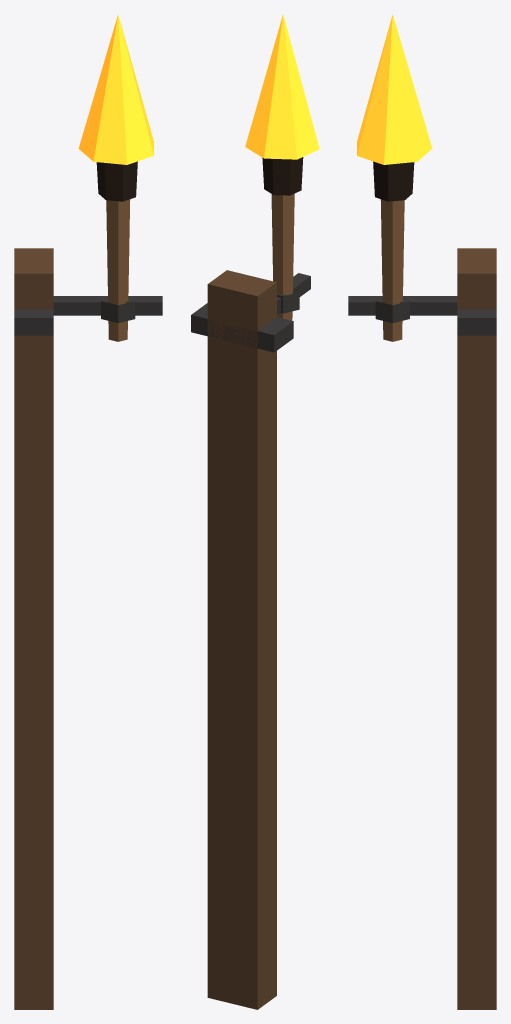
The model's file is prop-cave-torch.glb.
The picture shows the model from 3 angles, left to right: view 1: azimuth 90°, elevation 25°; view 2: azimuth 150°, elevation 25°; view 3: azimuth 270°, elevation 25°; orthographic projection. The views are drawn at different scales.
Parts seen in each view (by area): view 1: CaveTorch; view 2: CaveTorch; view 3: CaveTorch.
Part boxes in pixels (box(x1,y1,x2,y2)): CaveTorch: box(14, 14, 162, 1009); CaveTorch: box(191, 14, 319, 1009); CaveTorch: box(348, 14, 496, 1009).
Size of the model in its own units: 0.2 by 2.19 by 0.3.
